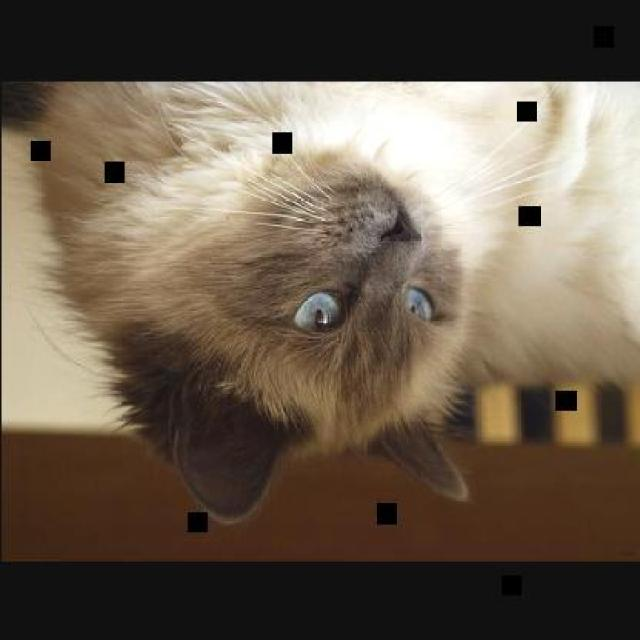unauthorized: (0, 78, 638, 523)
